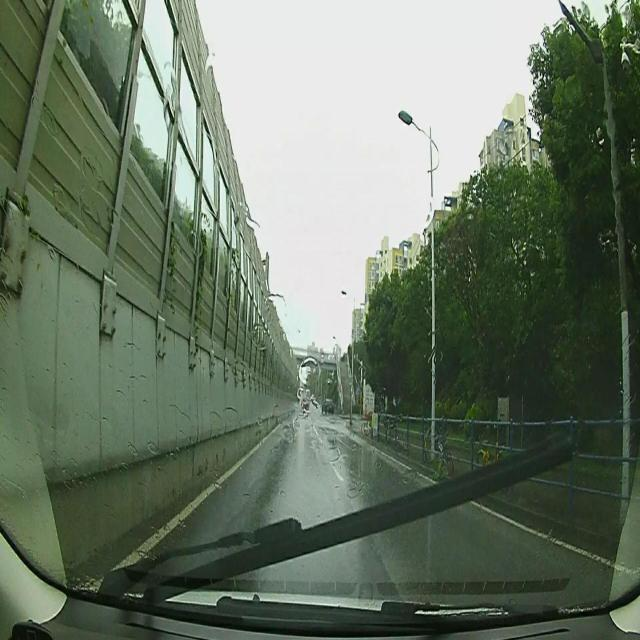car: (320, 396, 334, 414)
